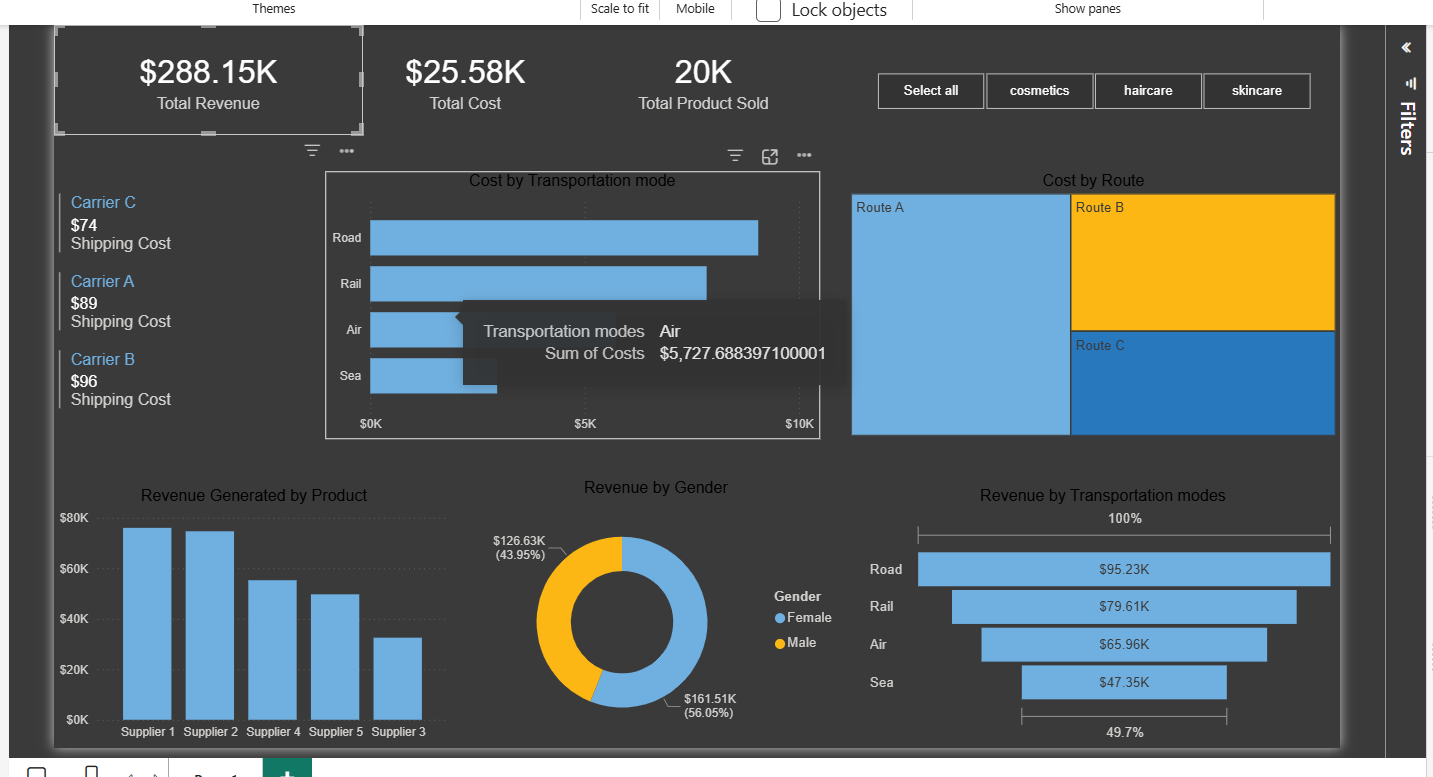

The dashboard page shown, as its layout file describes it:
{"tool":"powerbi","page":{"name":"Page 1","canvas":[1280,720],"ordinal":0},"visuals":[{"type":"columnChart","title":"Revenue Generated by Product","fields":{"Category":["supply_chain_data.Supplier name"],"Y":["Sum(supply_chain_data.Revenue generated)"]},"box":[0,459,398,260.6],"z":0},{"type":"funnel","title":"Revenue by Transportation modes","fields":{"Category":["supply_chain_data.Transportation modes"],"Y":["Sum(supply_chain_data.Revenue generated)"]},"box":[806.8,459,473.2,260.6],"z":1000},{"type":"card","fields":{"Values":["Sum(supply_chain_data.Revenue generated)"]},"box":[0,0,307.5,109],"z":2000},{"type":"card","fields":{"Values":["Sum(supply_chain_data.Costs)"]},"box":[286.7,0,244.2,109],"z":3000},{"type":"card","fields":{"Values":["Sum(supply_chain_data.Number of products sold)"]},"box":[516.8,0,260.6,109],"z":4000},{"type":"multiRowCard","fields":{"Values":["supply_chain_data.Shipping carriers","Sum(supply_chain_data.Shipping costs)"]},"box":[0,162.5,218.1,269.3],"z":5000},{"type":"donutChart","title":"Revenue by Gender","fields":{"Category":["supply_chain_data.Customer demographics"],"Y":["Sum(supply_chain_data.Revenue generated)"]},"box":[408.9,451.4,379.4,268.2],"z":6000},{"type":"slicer","fields":{"Values":["supply_chain_data.Product type"]},"box":[793.7,41.4,480.8,49.1],"z":7000},{"type":"clusteredBarChart","title":"Cost by Transportation mode","fields":{"Category":["supply_chain_data.Transportation modes"],"Y":["Sum(supply_chain_data.Costs)"]},"box":[270.4,145,491.7,268.2],"z":8000},{"type":"treemap","title":"Cost by Route","fields":{"Group":["supply_chain_data.Routes"],"Values":["Sum(supply_chain_data.Costs)"]},"box":[788.3,145,491.7,268.2],"z":9000}]}

Visuals, with their boxes on the page's 1280x720 design canvas (x1, y1, x2, y2). These are canvas units, not pixel positions in the 1433x777 screenshot, which may show the page scaled, cropped or inside an application window:
"Revenue Generated by Product" columnChart: <bbox>0, 459, 398, 720</bbox>
"Revenue by Transportation modes" funnel: <bbox>807, 459, 1280, 720</bbox>
card - Sum(supply_chain_data.Revenue generated): <bbox>0, 0, 308, 109</bbox>
card - Sum(supply_chain_data.Costs): <bbox>287, 0, 531, 109</bbox>
card - Sum(supply_chain_data.Number of products sold): <bbox>517, 0, 777, 109</bbox>
multiRowCard - supply_chain_data.Shipping carriers x Sum(supply_chain_data.Shipping costs): <bbox>0, 162, 218, 432</bbox>
"Revenue by Gender" donutChart: <bbox>409, 451, 788, 720</bbox>
slicer - supply_chain_data.Product type: <bbox>794, 41, 1274, 90</bbox>
"Cost by Transportation mode" clusteredBarChart: <bbox>270, 145, 762, 413</bbox>
"Cost by Route" treemap: <bbox>788, 145, 1280, 413</bbox>
